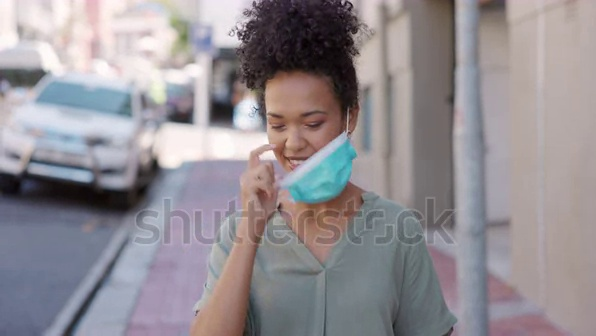No Mask: (267, 132, 350, 184)
